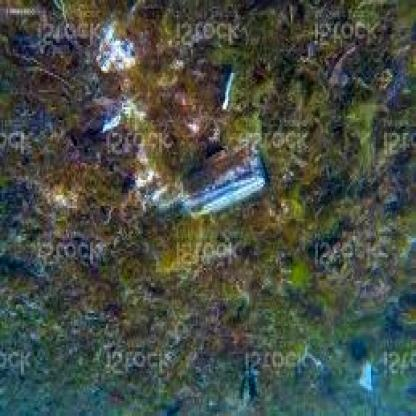can: (178, 142, 272, 224)
